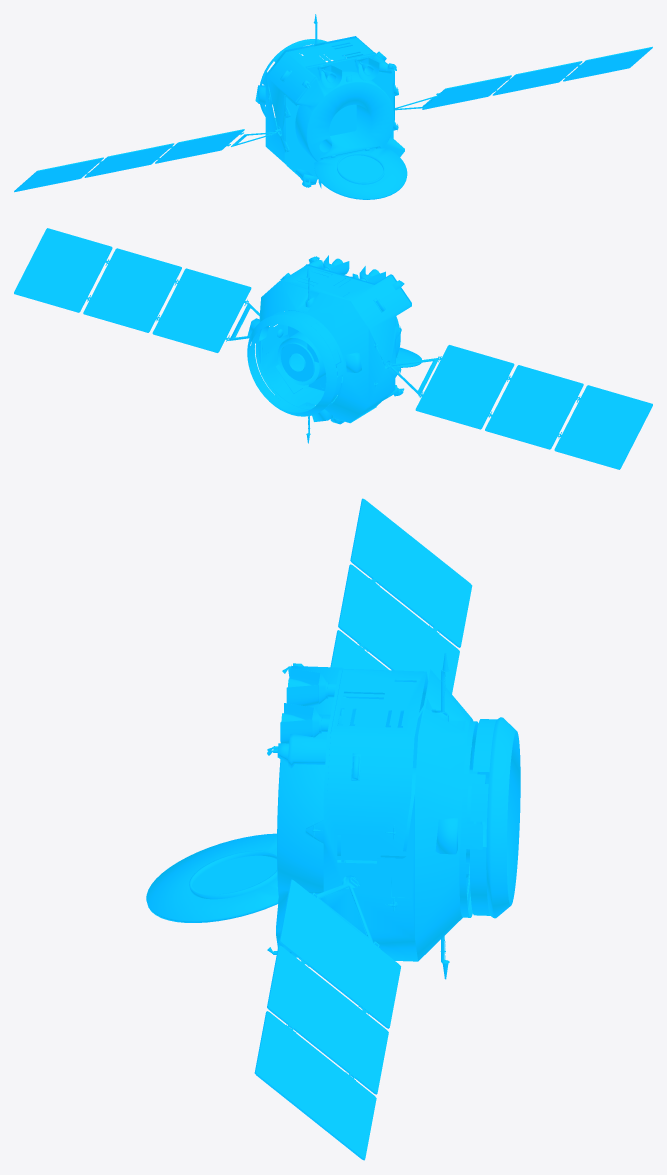
File: sat.gltf
3 views of the same model, one above another, from view 1: azimuth 30°, elevation 25°; view 2: azimuth 150°, elevation 25°; view 3: azimuth 270°, elevation 25° (orthographic). The views are drawn at different scales.
Parts seen in each view (by area): view 1: sat; view 2: sat; view 3: sat.
Part boxes in pixels (left/top/right/bottom): sat: left=14, top=14, right=652, bottom=199; sat: left=14, top=228, right=652, bottom=469; sat: left=146, top=498, right=520, bottom=1160.
Size of the model in its own units: 32.58 by 8.57 by 8.91.
